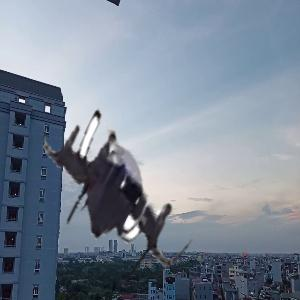drone: (11, 92, 213, 294)
